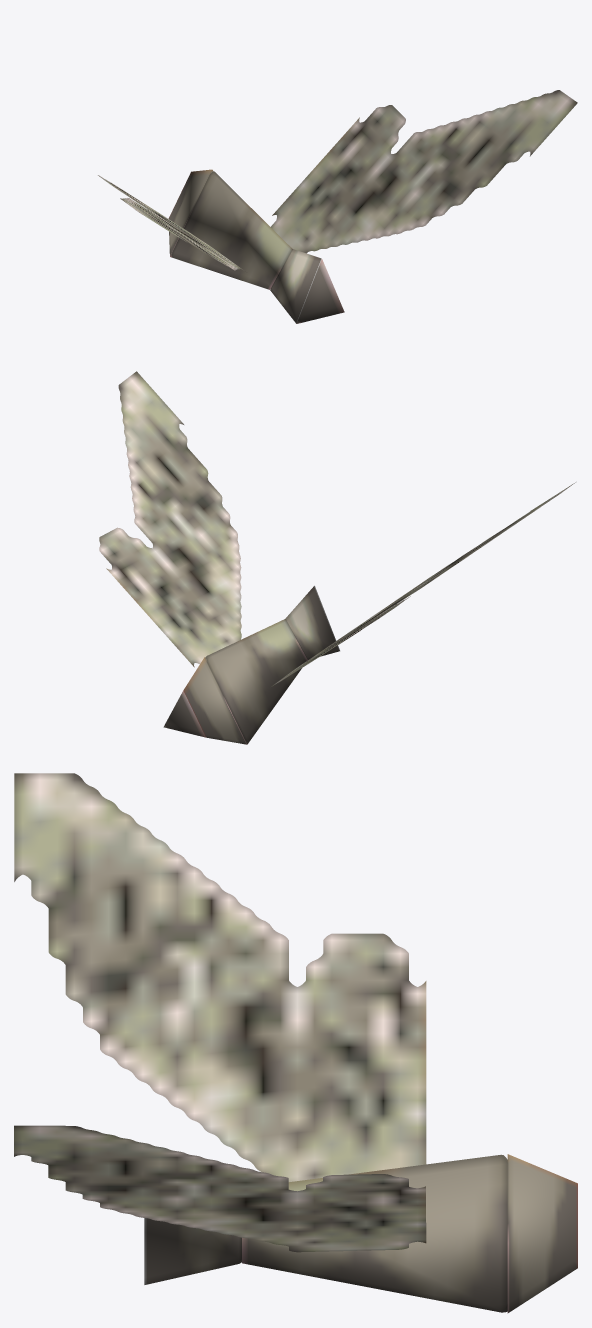
The picture shows the model from 3 angles, top to bottom: view 1: azimuth 30°, elevation 25°; view 2: azimuth 150°, elevation 25°; view 3: azimuth 270°, elevation 25°; orthographic projection. The views are drawn at different scales.
Visible parts, largest first — view 1: T1L8M008_4; view 2: T1L8M008_4; view 3: T1L8M008_4.
Boxes of the visible parts, x1,y1,x2,y2 form: T1L8M008_4: [98, 90, 577, 323]; T1L8M008_4: [99, 371, 575, 744]; T1L8M008_4: [14, 773, 577, 1313].
Bounding box in the file's own units: 0.1515 × 0.0658 × 0.1016.
Materials: 1 (1 with a texture image).
